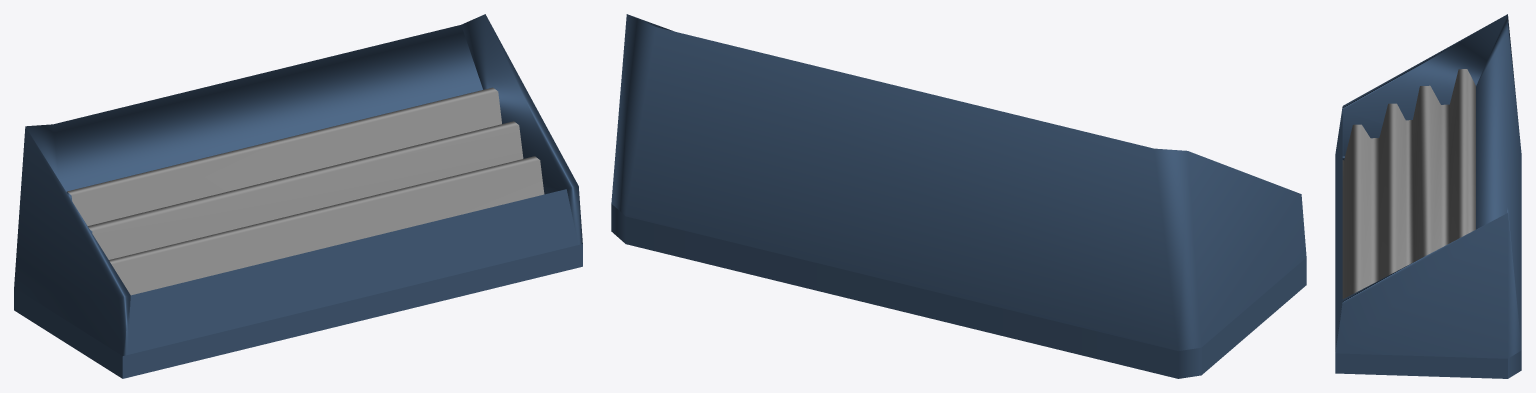
Rendered from Tribunas.fbx.
3 views of the same model, side by side, from view 1: azimuth 30°, elevation 25°; view 2: azimuth 150°, elevation 25°; view 3: azimuth 270°, elevation 25° (orthographic). The views are drawn at different scales.
Visible parts, largest first — view 1: pCube2; view 2: pCube2; view 3: pCube2.
Boxes of the visible parts, x1=… form: pCube2: x1=14, y1=14, x2=582, y2=378; pCube2: x1=611, y1=14, x2=1306, y2=378; pCube2: x1=1335, y1=14, x2=1521, y2=378.
Bounding box in the file's own units: 22.23 × 7.96 × 8.36.
